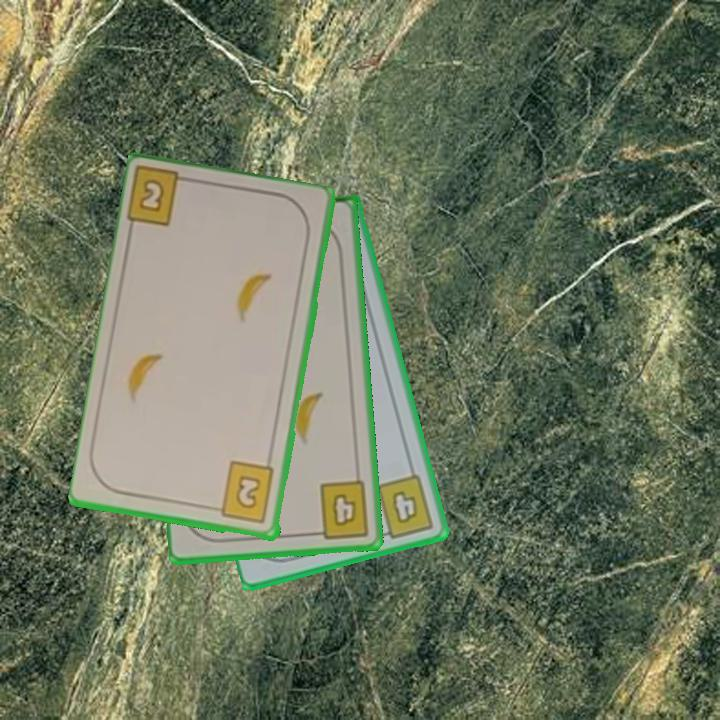2b: (125, 166, 199, 230), (209, 459, 278, 526)
4b: (373, 471, 438, 541), (308, 477, 373, 541)
